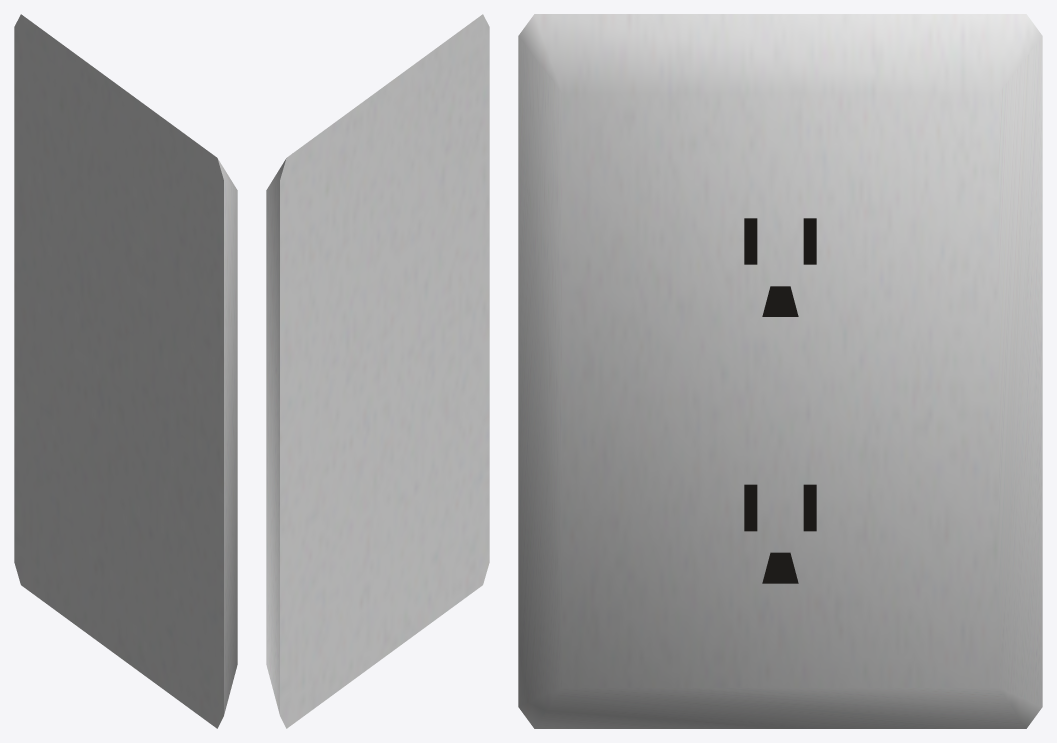
Rendered from LOD1 Plug White.fbx.
The picture shows the model from 3 angles, left to right: view 1: azimuth 30°, elevation 25°; view 2: azimuth 150°, elevation 25°; view 3: azimuth 270°, elevation 25°; orthographic projection. The views are drawn at different scales.
Visible parts, largest first — view 1: Plug White.002; view 2: Plug White.002; view 3: Plug White.002.
Part boxes in pixels (<box>): Plug White.002: <box>14,14,237,728</box>; Plug White.002: <box>266,14,489,728</box>; Plug White.002: <box>518,14,1042,728</box>.
Bounding box in the file's own units: 0.9541 × 15.93 × 10.59.
